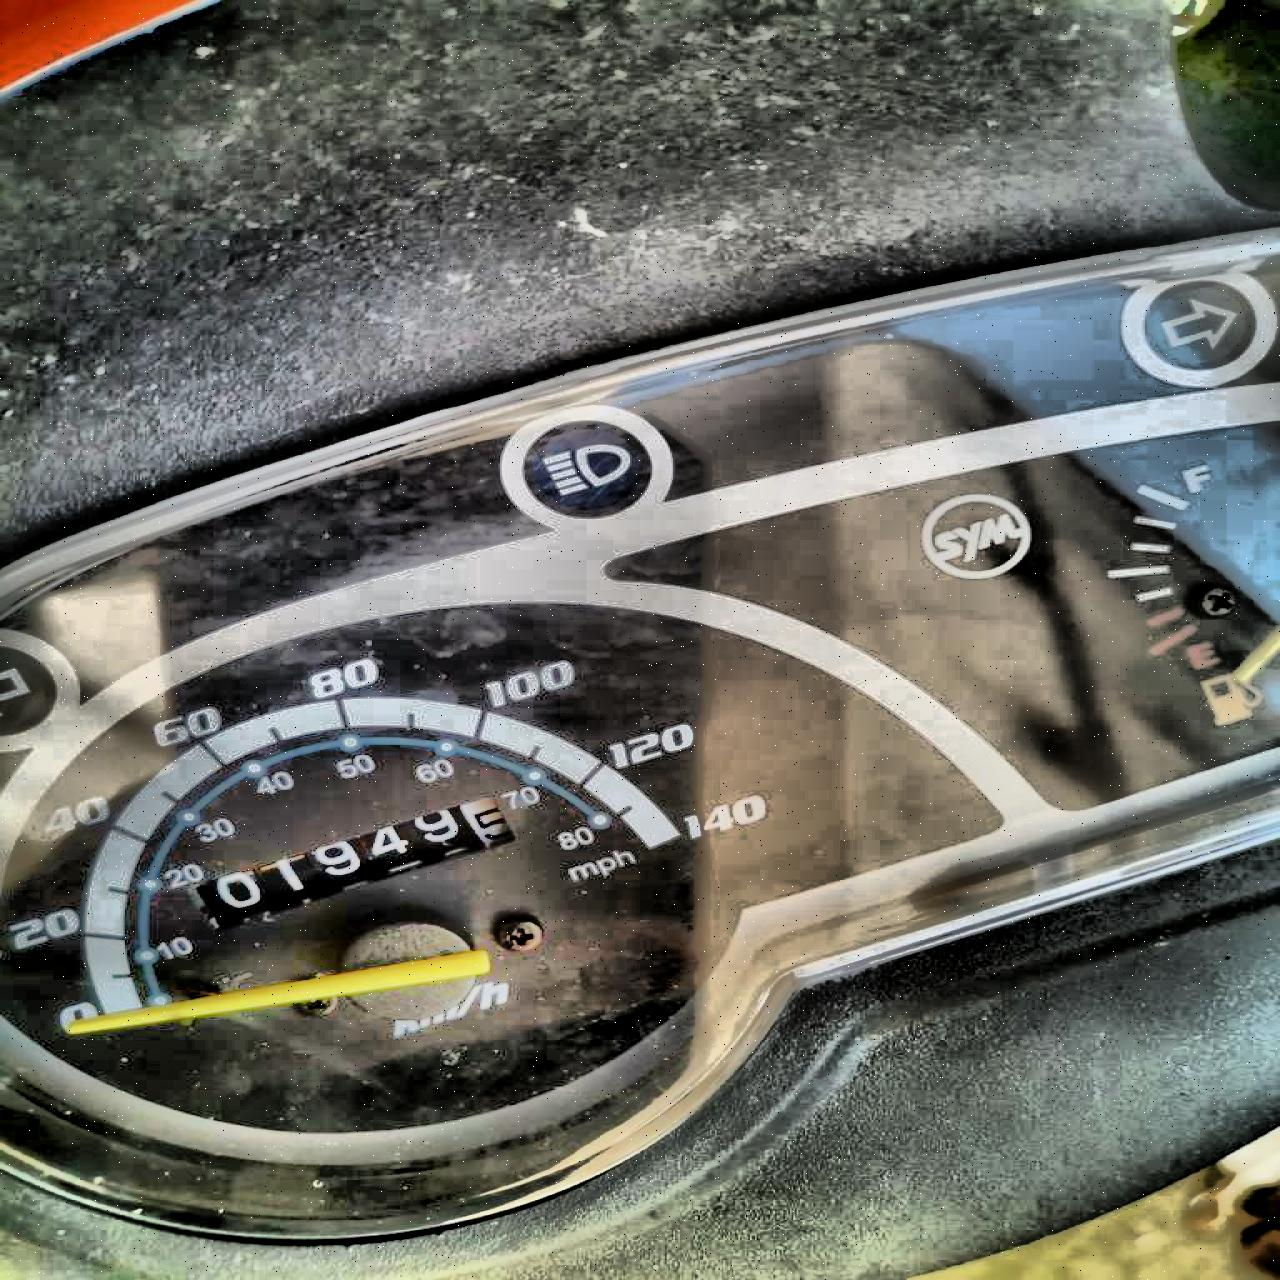0: (213, 870, 261, 907), (213, 816, 234, 836), (182, 863, 203, 881)
1: (274, 858, 304, 892)
3: (193, 823, 215, 842)
4: (368, 822, 409, 853)
5: (470, 805, 510, 839)
7: (497, 788, 518, 809)
9: (312, 837, 360, 874), (411, 806, 458, 842)
odometer: (189, 794, 517, 935)
